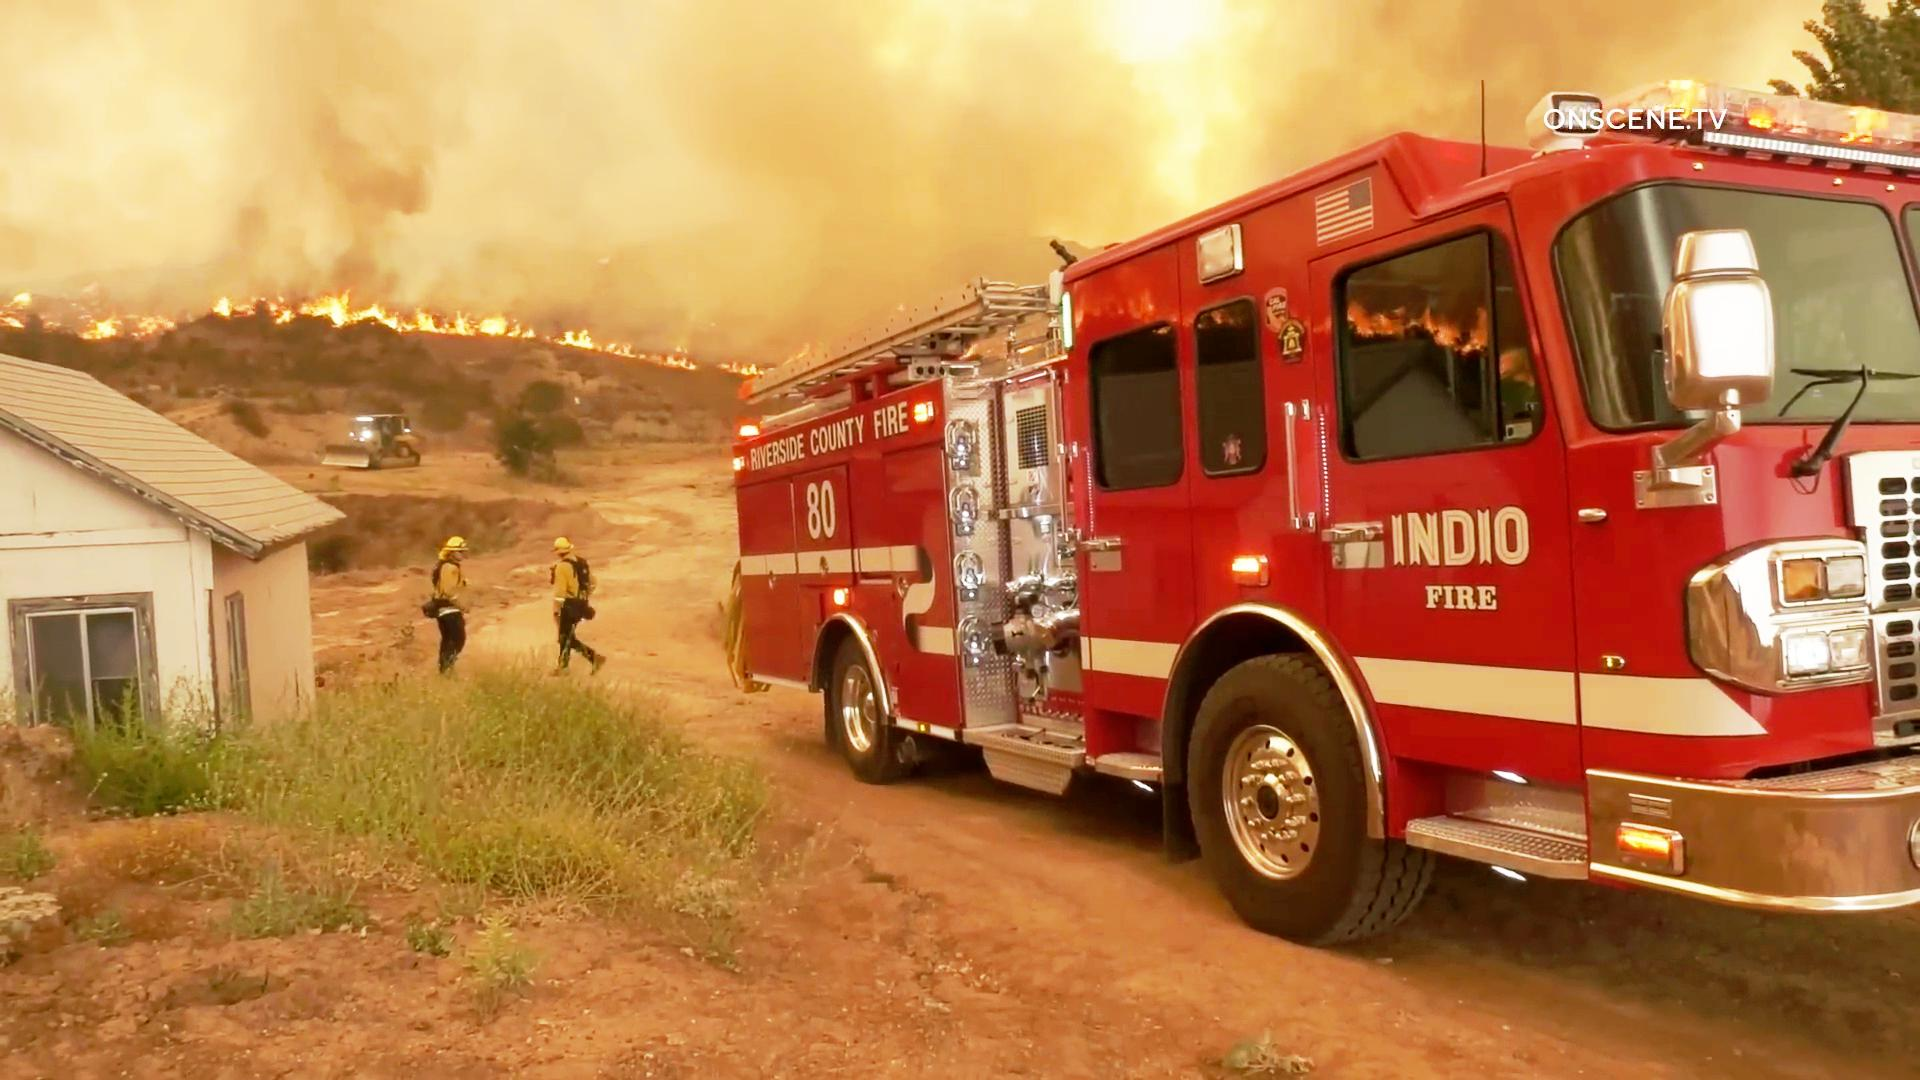fire: (384, 303, 546, 336), (306, 286, 369, 331)
smoke: (262, 61, 454, 253)
